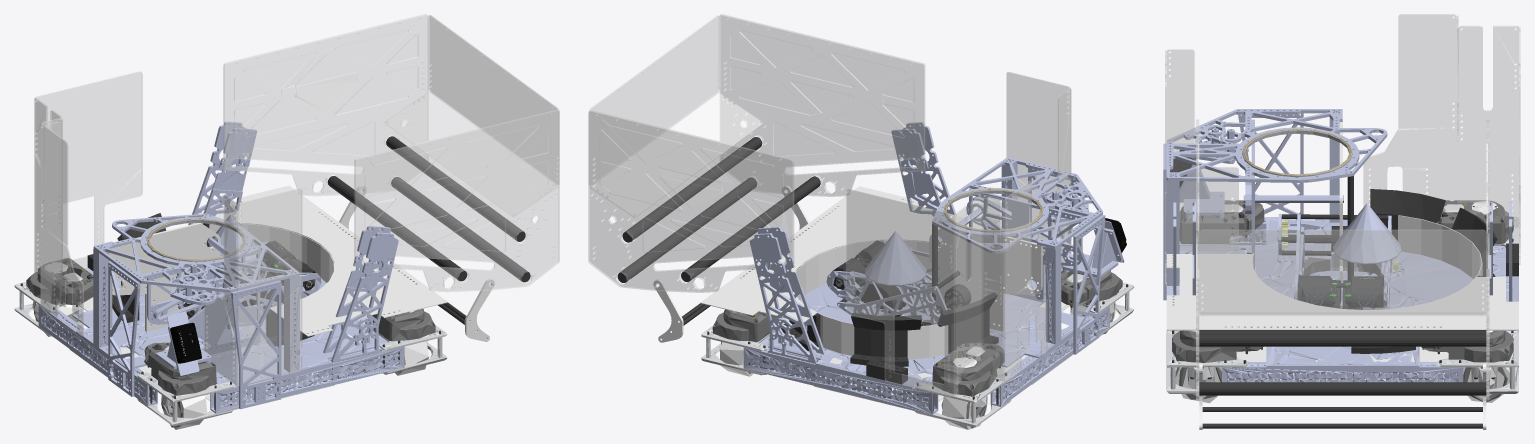
Rendered from robot_skadi.glb.
3 renders of one model, left to right at view 1: azimuth 30°, elevation 25°; view 2: azimuth 150°, elevation 25°; view 3: azimuth 270°, elevation 25°, orthographic. The views are drawn at different scales.
Visible parts, largest first — view 1: clear_23, body_13, body_22, body_2, body_4, body_19, body_18, turret_32, body_0, body_8, turret_35; view 2: clear_23, body_13, body_22, body_2, body_4, body_18, tilt_27, turret_35, turret_32, body_19, body_8, tilt_25; view 3: clear_23, body_13, body_22, body_2, body_4, turret_32, body_18, body_19, tilt_25, body_8, turret_35, tilt_27 (+2 smaller).
Part boxes in pixels (box(x1,y1,x2,y2)): clear_23: box(34, 14, 559, 385); body_13: box(38, 121, 404, 413); body_22: box(32, 185, 494, 429); body_2: box(87, 136, 530, 346); body_4: box(26, 225, 435, 427); body_19: box(14, 282, 447, 374); body_18: box(34, 302, 427, 426); turret_32: box(240, 240, 315, 309); body_0: box(170, 322, 201, 363); body_8: box(146, 218, 245, 261); turret_35: box(219, 242, 321, 339); clear_23: box(588, 14, 1071, 396); body_13: box(743, 122, 1124, 414); body_22: box(653, 185, 1115, 429); body_2: box(617, 137, 998, 384); body_4: box(712, 270, 1122, 428); body_18: box(701, 282, 1134, 417); tilt_27: box(837, 266, 950, 324); turret_35: box(826, 242, 938, 321); turret_32: box(831, 240, 913, 316); body_19: box(913, 373, 1011, 427); body_8: box(943, 189, 1043, 232); tilt_25: box(840, 271, 971, 313); clear_23: box(1165, 14, 1520, 399); body_13: box(1163, 109, 1518, 382); body_22: box(1166, 120, 1518, 429); body_2: box(1199, 175, 1518, 428); body_4: box(1172, 200, 1513, 402); turret_32: box(1297, 275, 1383, 309); body_18: box(1179, 236, 1518, 393); body_19: box(1166, 216, 1518, 393); tilt_25: box(1277, 214, 1398, 275); body_8: box(1242, 129, 1352, 177); turret_35: box(1294, 226, 1388, 309); tilt_27: box(1277, 214, 1399, 309).
Bounding box in the file's own units: 1.01 × 0.5428 × 0.6953.
